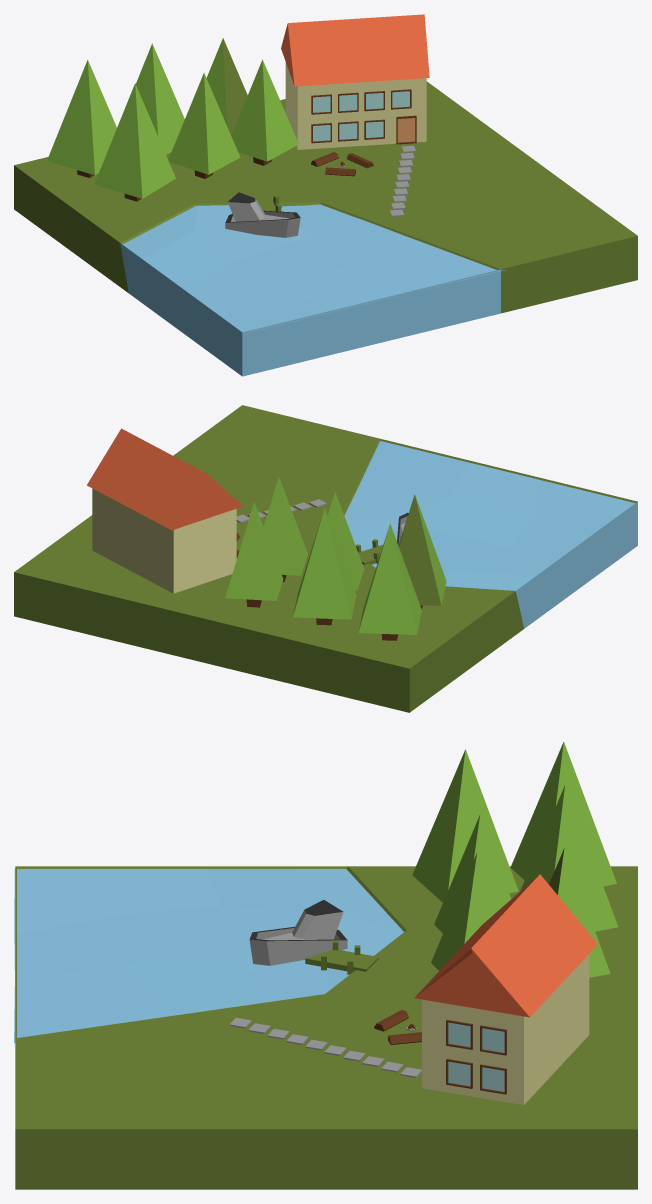
Rendered from Ferias 1.fbx.
3 renders of one model, top to bottom at view 1: azimuth 30°, elevation 25°; view 2: azimuth 150°, elevation 25°; view 3: azimuth 270°, elevation 25°, orthographic. The views are drawn at different scales.
Visible parts, largest first — view 1: ferias; view 2: ferias; view 3: ferias.
Boxes of the visible parts, bbox=[...] form: ferias: bbox=[14, 14, 637, 376]; ferias: bbox=[14, 405, 637, 712]; ferias: bbox=[14, 741, 637, 1189].
Size of the model in its own units: 432 by 165 by 433.
